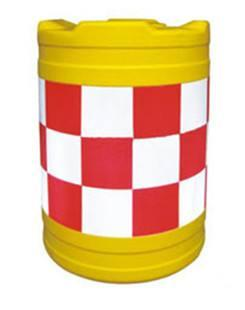sign: (28, 13, 215, 281)
